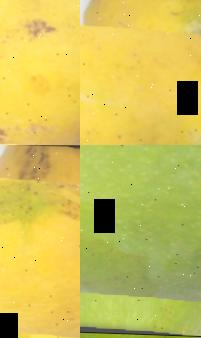Ripe: (80, 0, 201, 145), (0, 145, 80, 338), (0, 0, 80, 145)
Unripe: (80, 145, 201, 336)
